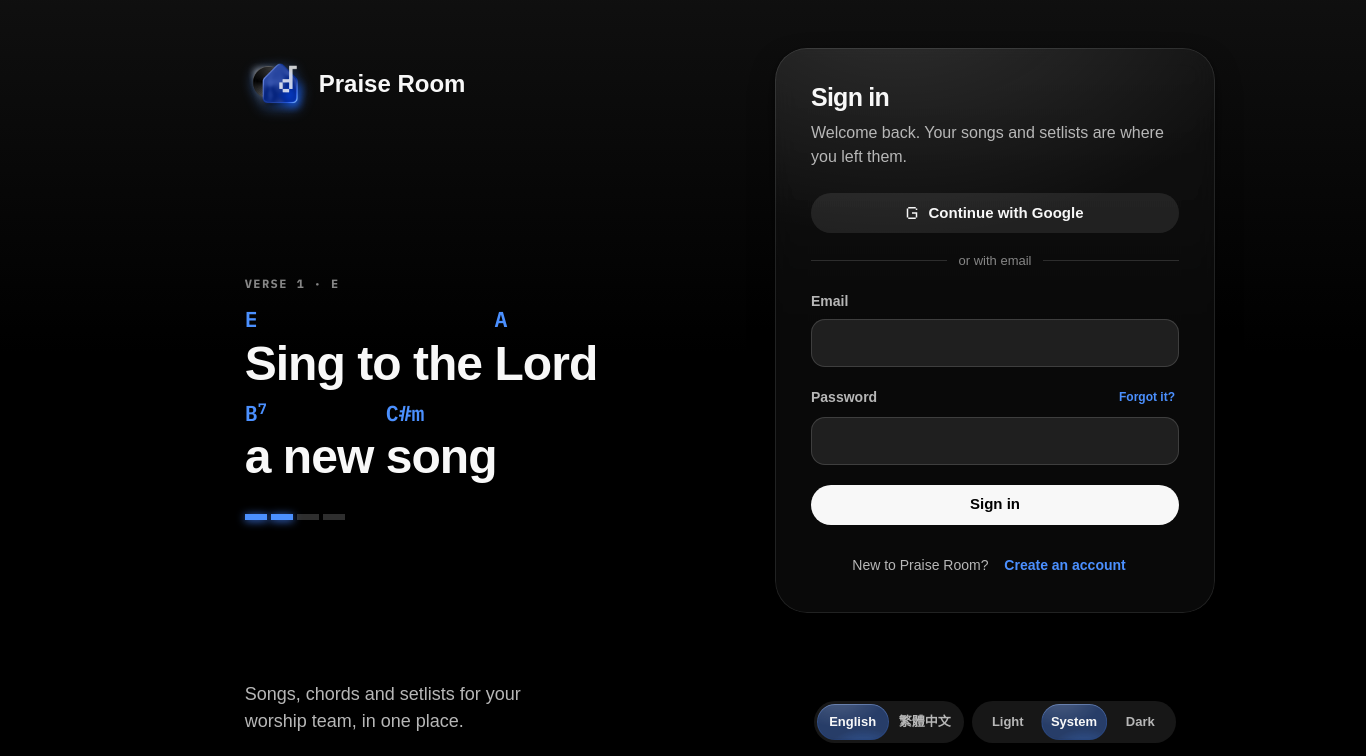
Test: SignInPage › asks for both fields before sending anything
Step 1. Click the button "Sign in" → {"x": 995, "y": 504}, box [811,484,1179,524]
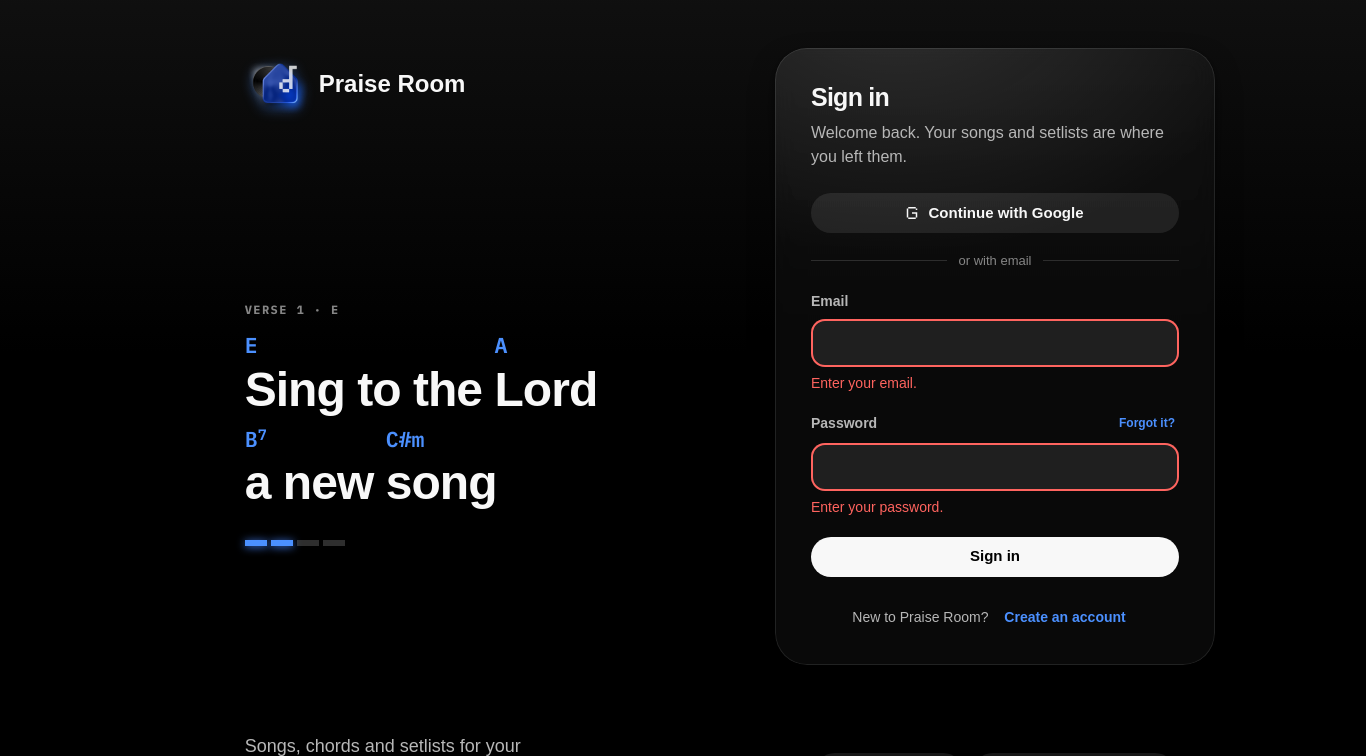
Now the text "Enter your email." is shown, box [811,374,917,390]
Now the text "Enter your password." is shown, box [811,498,943,514]
